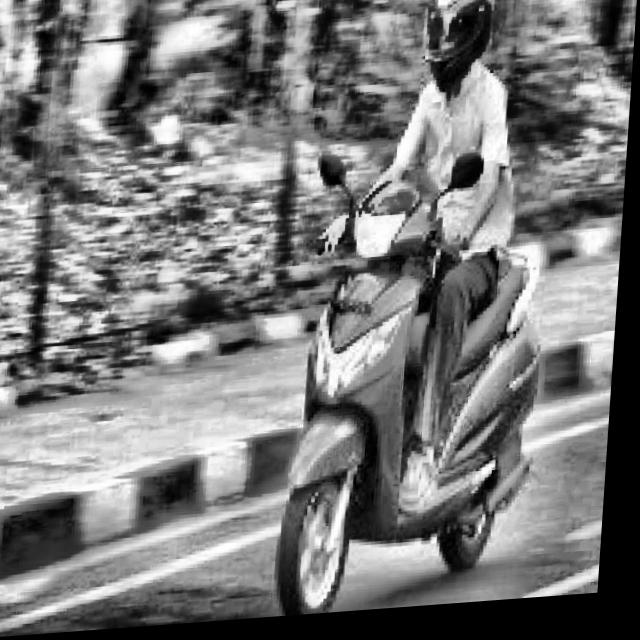motorcycle: (263, 138, 582, 623)
